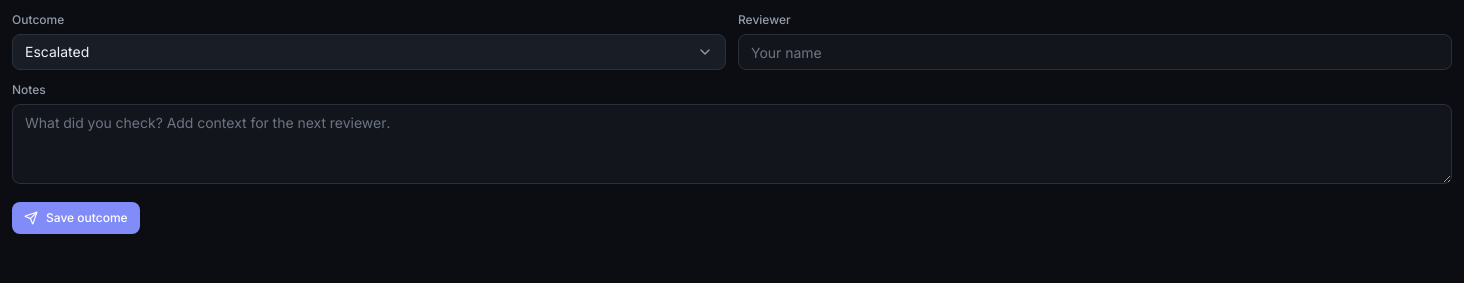
Scenario: OutcomeForm › requires notes for an escalated outcome
Click the button "Save outcome". click: click(76, 218)
box: [12,202,140,234]
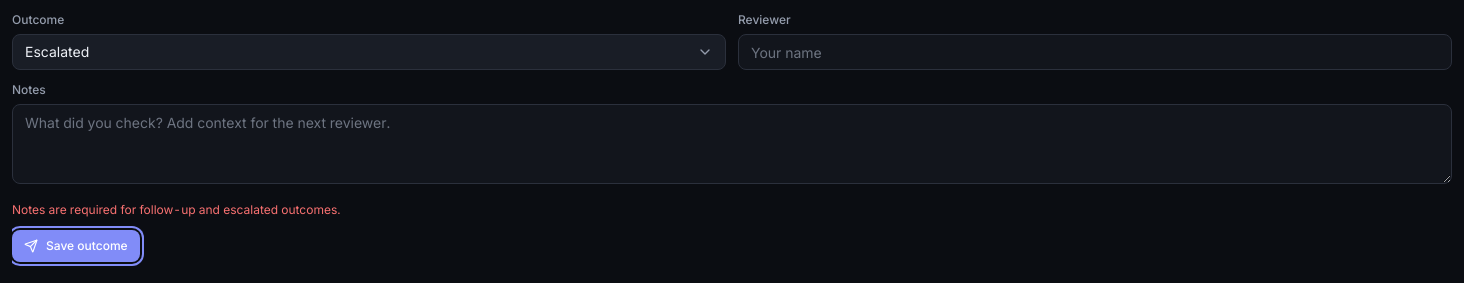
Expected: the message shows "Notes are required", [12,202,340,217]
